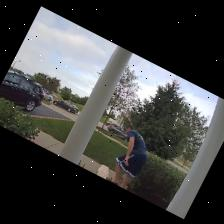person: (107, 125, 147, 188)
